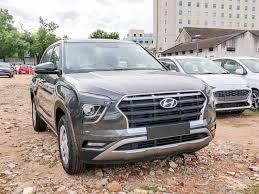Normal Automobiles: (31, 40, 215, 173), (159, 56, 251, 111), (213, 57, 258, 108), (0, 62, 13, 77), (18, 65, 31, 73)
